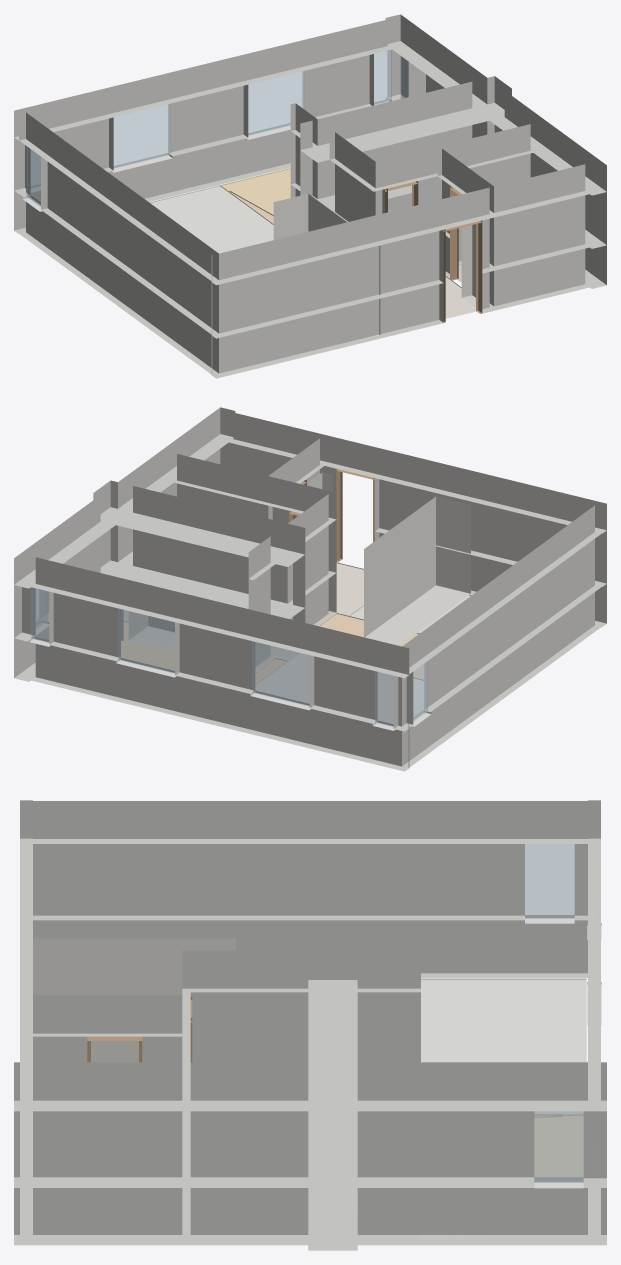
The picture shows the model from 3 angles, top to bottom: view 1: azimuth 30°, elevation 25°; view 2: azimuth 150°, elevation 25°; view 3: azimuth 270°, elevation 25°; orthographic projection. The views are drawn at different scales.
Visible parts, largest first — view 1: walls, floor_0_Undefined, window_5, window_0, furniture_0_closet, floor_1_Kitchen, furniture_1_closet, door_3, window_2, window_4, floor_5_Entry, door_7; view 2: walls, furniture_0_closet, window_5, window_0, floor_0_Undefined, furniture_4_sink, floor_5_Entry, floor_1_Kitchen, window_6, window_2, door_3, floor_3_Living_Room (+1 smaller); view 3: walls, floor_0_Undefined, furniture_0_closet, window_4, window_1, floor_1_Kitchen.
Part boxes in pixels (x1,y1,x2,y2): walls: (14,14,606,378); floor_0_Undefined: (149,185,273,253); window_5: (112,102,170,168); window_0: (247,69,304,135); furniture_0_closet: (273,194,380,339); floor_1_Kitchen: (220,168,290,214); furniture_1_closet: (461,224,475,307); door_3: (443,220,482,322); window_2: (374,49,391,105); window_4: (26,143,44,208); floor_5_Entry: (445,276,476,318); door_7: (450,186,461,280); walls: (14,407,606,771); furniture_0_closet: (364,496,470,645); window_5: (252,639,311,706); window_0: (118,606,177,673); floor_0_Undefined: (255,653,423,723); furniture_4_sink: (129,611,174,650); floor_5_Entry: (336,562,363,615); floor_1_Kitchen: (121,621,174,670); window_6: (375,669,393,726); window_2: (31,587,51,642); door_3: (336,469,374,562); floor_3_Living_Room: (319,613,423,679); walls: (14,800,606,1250); floor_0_Undefined: (421,978,586,1114); furniture_0_closet: (33,938,236,1062); window_4: (525,844,574,918); window_1: (534,1111,583,1182); floor_1_Kitchen: (534,1114,583,1176).
Bounding box in the file's own units: 9.34 × 2.72 × 8.42.
